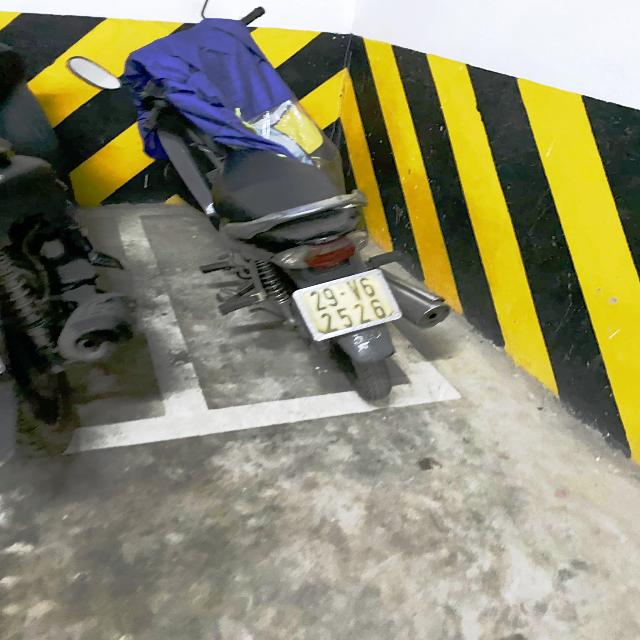license_plate: (288, 265, 409, 346)
